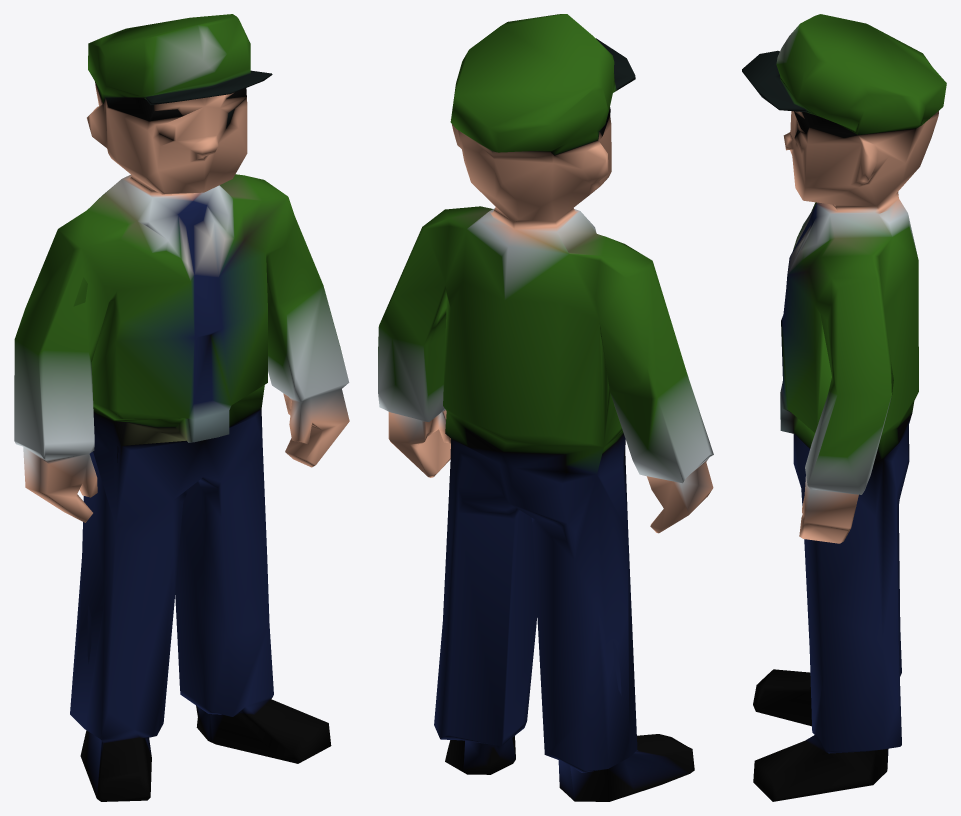
Rendered from gen3d-mailman-lod1.glb.
3 views of the same model, side by side, from view 1: azimuth 30°, elevation 25°; view 2: azimuth 150°, elevation 25°; view 3: azimuth 270°, elevation 25° (orthographic). The views are drawn at different scales.
Visible parts, largest first — view 1: part_0; view 2: part_0; view 3: part_0.
Part boxes in pixels (x1,y1,x2,y2): part_0: [14, 14, 349, 801]; part_0: [378, 14, 713, 801]; part_0: [742, 14, 946, 801].
Size of the model in its own units: 0.4329 by 0.9999 by 0.2567.
